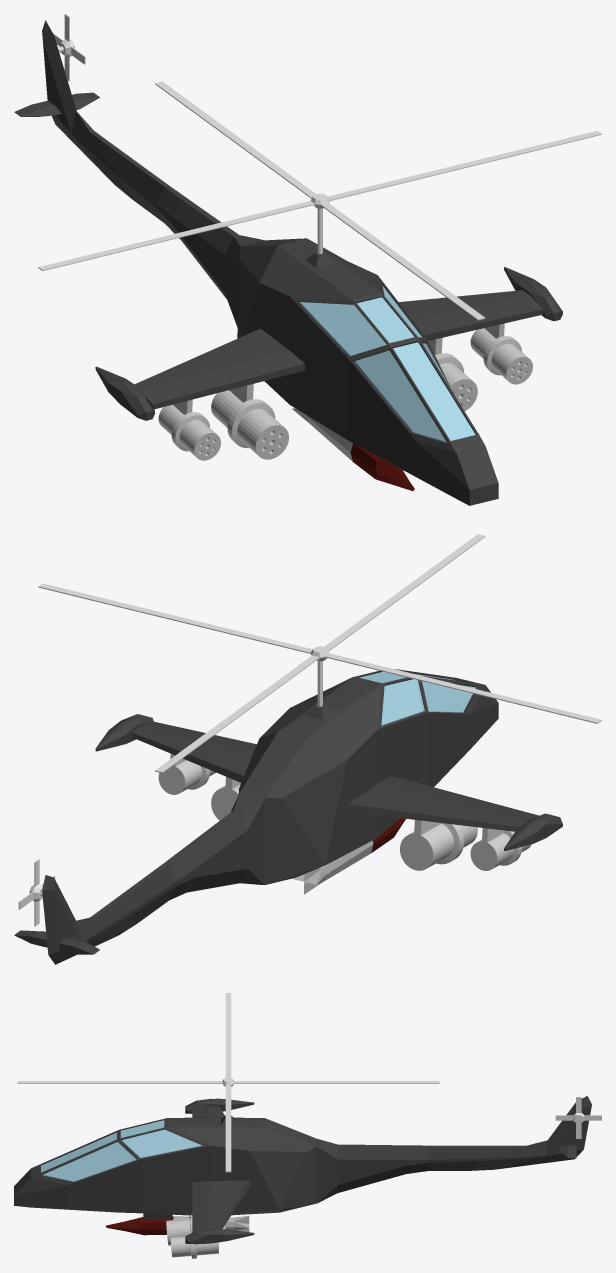
The model's file is HeliCopter.fbx.
3 renders of one model, top to bottom at view 1: azimuth 30°, elevation 25°; view 2: azimuth 150°, elevation 25°; view 3: azimuth 270°, elevation 25°, orthographic. The views are drawn at different scales.
Visible parts, largest first — view 1: Body, Glass, Prop, GUN.002, GUN.001, GUN.003, Missile, GUN, Tail Prop; view 2: Body, Prop, Glass, GUN.002, GUN.003, Missile, GUN.001, GUN, Tail Prop; view 3: Body, Glass, Prop, Missile, GUN.001, GUN, Tail Prop.
Boxes of the visible parts, x1,y1,x2,y2 form: Body: (14,20,562,505); Glass: (299,286,475,442); Prop: (38,81,601,320); GUN.002: (211,384,288,459); GUN.001: (470,323,532,384); GUN.003: (158,399,220,460); Missile: (292,408,414,491); GUN: (428,337,477,411); Tail Prop: (53,14,85,81); Body: (14,669,562,964); Prop: (38,534,601,773); Glass: (359,671,476,725); GUN.002: (400,820,477,870); GUN.003: (470,828,531,870); Missile: (292,818,405,894); GUN.001: (158,754,215,794); GUN: (211,776,240,820); Tail Prop: (18,859,55,926); Body: (14,1096,591,1244); Glass: (41,1120,202,1181); Prop: (17,993,439,1172); Missile: (106,1215,249,1235); GUN.001: (170,1232,218,1258); GUN: (166,1214,226,1245); Tail Prop: (555,1097,601,1138).
Size of the model in its own units: 1912 by 2663 by 770.
